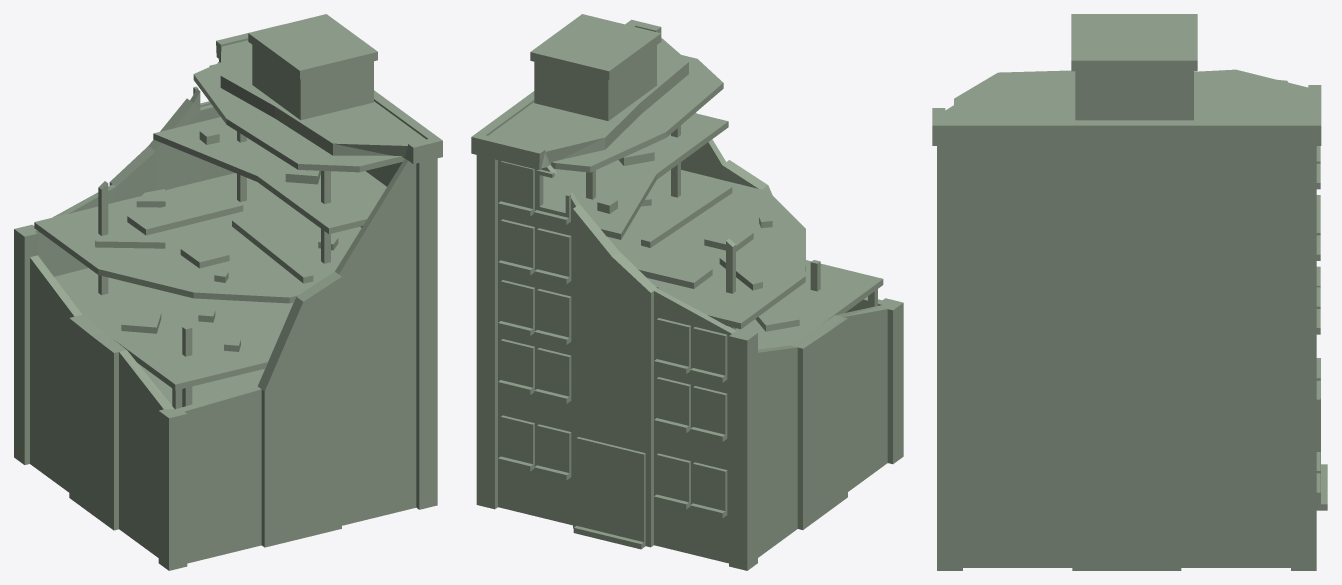
The model's file is apartment_damaged_02.fbx.
3 views of the same model, side by side, from view 1: azimuth 30°, elevation 25°; view 2: azimuth 150°, elevation 25°; view 3: azimuth 270°, elevation 25° (orthographic). The views are drawn at different scales.
Parts seen in each view (by area): view 1: apartment_damaged_02; view 2: apartment_damaged_02; view 3: apartment_damaged_02.
Part boxes in pixels (x1,y1,x2,y2): apartment_damaged_02: [14, 14, 442, 570]; apartment_damaged_02: [471, 14, 903, 570]; apartment_damaged_02: [932, 14, 1327, 570].
Bounding box in the file's own units: 11.49 × 16.75 × 11.82.
